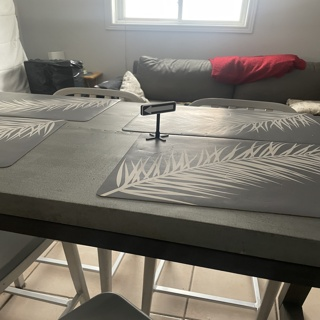sign_oneway_left: (138, 103, 175, 115)
